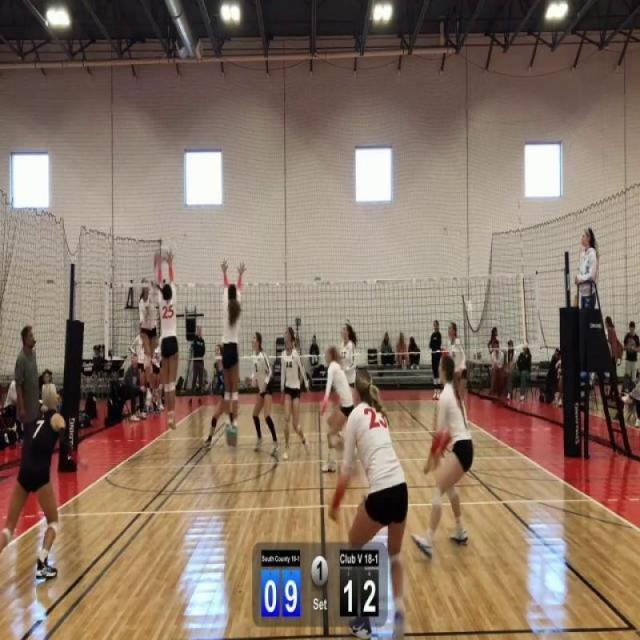volleyball: (160, 240, 176, 265)
